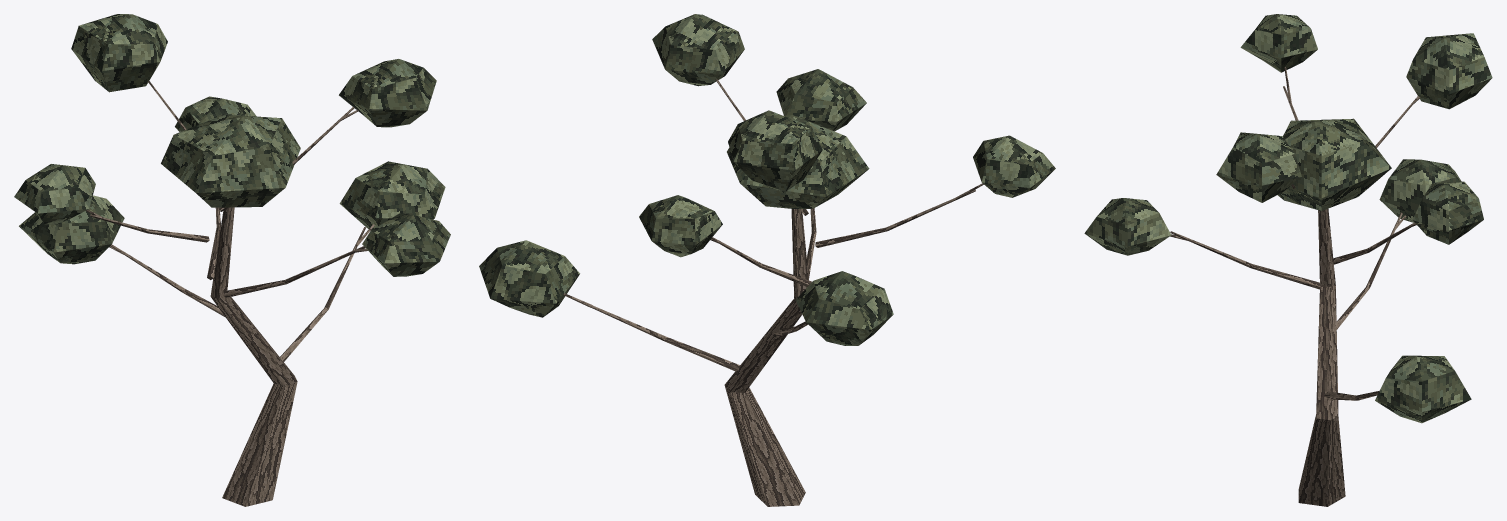
The model's file is TREE_Sparse_A_LOD2.glb.
3 renders of one model, left to right at view 1: azimuth 30°, elevation 25°; view 2: azimuth 150°, elevation 25°; view 3: azimuth 270°, elevation 25°, orthographic. The views are drawn at different scales.
Parts seen in each view (by area): view 1: TREE_Sparse_A_LOD2__Foliage, TREE_Sparse_A_LOD2__Bark; view 2: TREE_Sparse_A_LOD2__Foliage, TREE_Sparse_A_LOD2__Bark; view 3: TREE_Sparse_A_LOD2__Foliage, TREE_Sparse_A_LOD2__Bark.
Part boxes in pixels (box(x1,y1,x2,y2)): TREE_Sparse_A_LOD2__Foliage: box(14, 14, 450, 276); TREE_Sparse_A_LOD2__Bark: box(86, 81, 374, 506); TREE_Sparse_A_LOD2__Foliage: box(479, 14, 1055, 345); TREE_Sparse_A_LOD2__Bark: box(563, 79, 983, 506); TREE_Sparse_A_LOD2__Foliage: box(1084, 14, 1492, 423); TREE_Sparse_A_LOD2__Bark: box(1170, 67, 1419, 506).
Size of the model in its own units: 10.14 by 8.79 by 7.5.
Materials: 2 (2 with a texture image).
